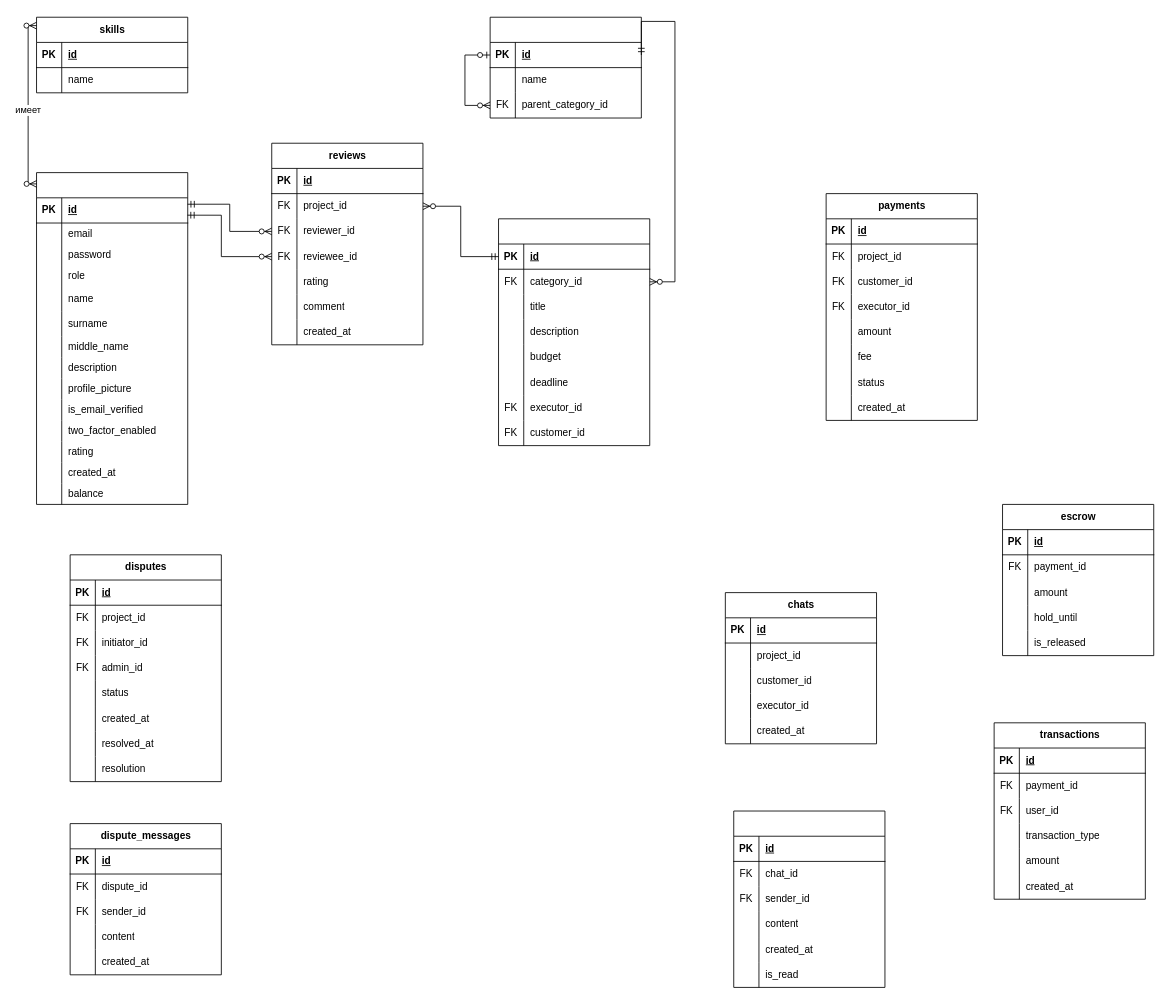
This 1168x1002 diagram has some shape labels left out. The box of each missing label's shape, as (x1, y1, x2, y2) in pixels:
categories: (489, 16, 641, 118)
messages: (733, 810, 885, 987)
projects: (498, 218, 650, 446)
users: (36, 172, 188, 504)
